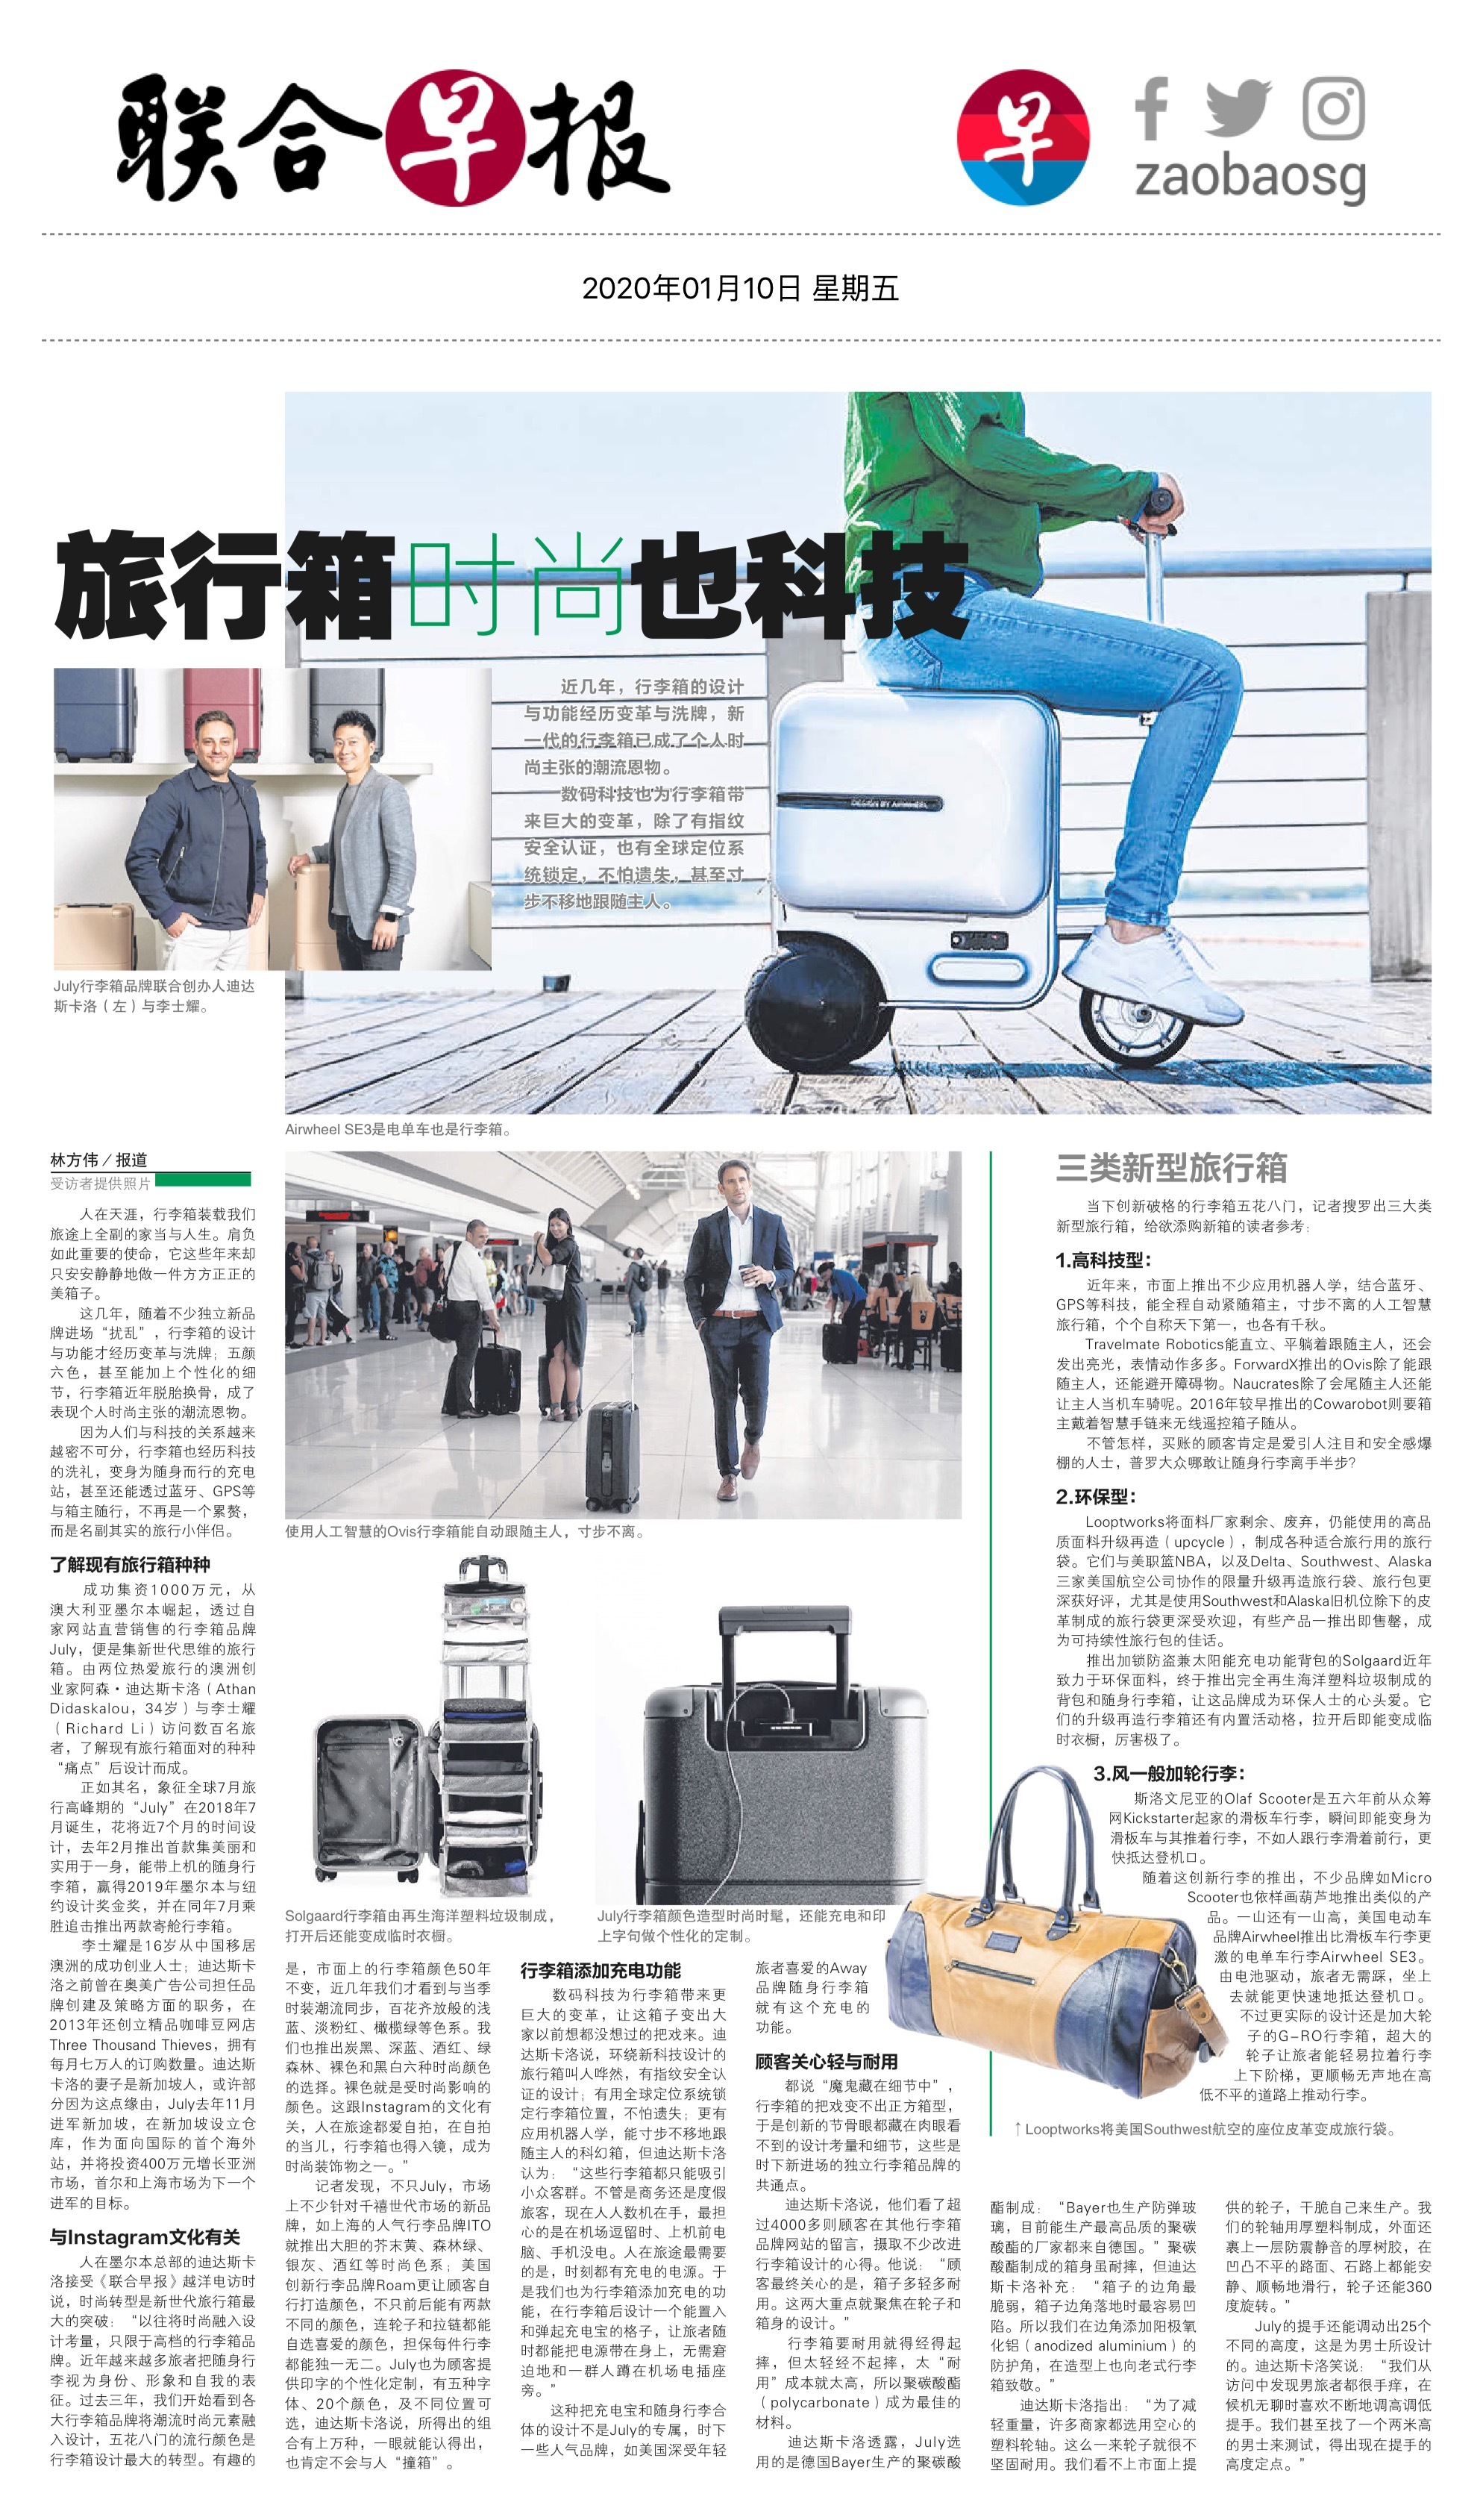heading: (41, 505, 992, 662)
